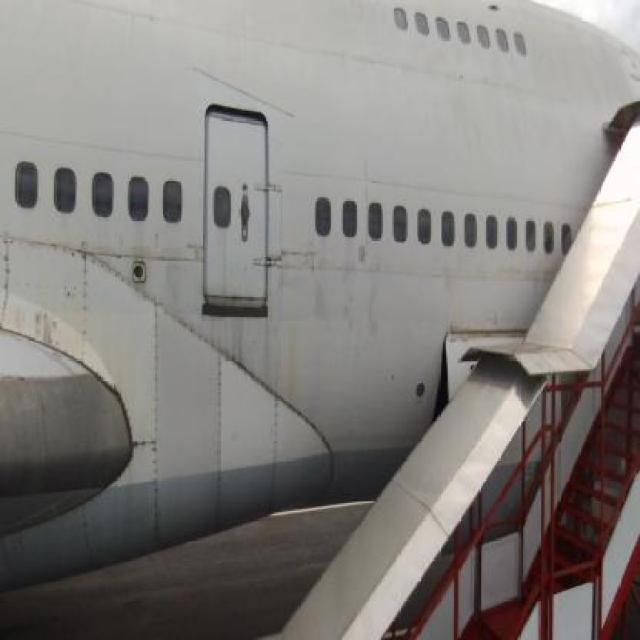Missing-Rivet: (77, 244, 98, 354), (1, 232, 14, 311), (128, 429, 167, 454)
Rust: (282, 310, 304, 418), (447, 315, 528, 342), (217, 313, 252, 370), (126, 217, 152, 266)
Scartch: (308, 264, 388, 345), (26, 298, 74, 353)
